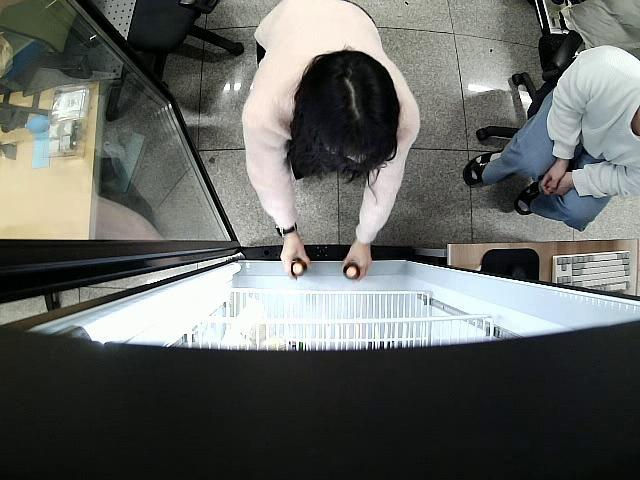17_vita500: (340, 264, 363, 284), (289, 259, 308, 280)
